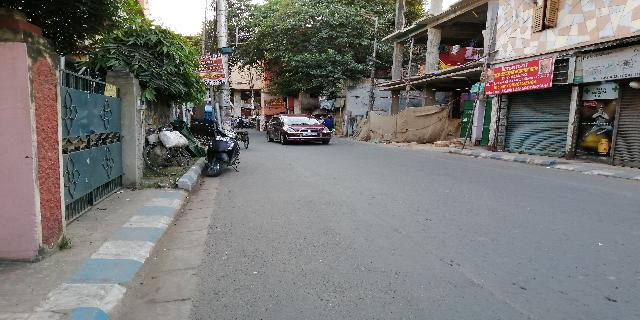Car: (265, 110, 333, 149)
